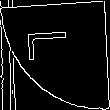L_E: (30, 38, 80, 72)
